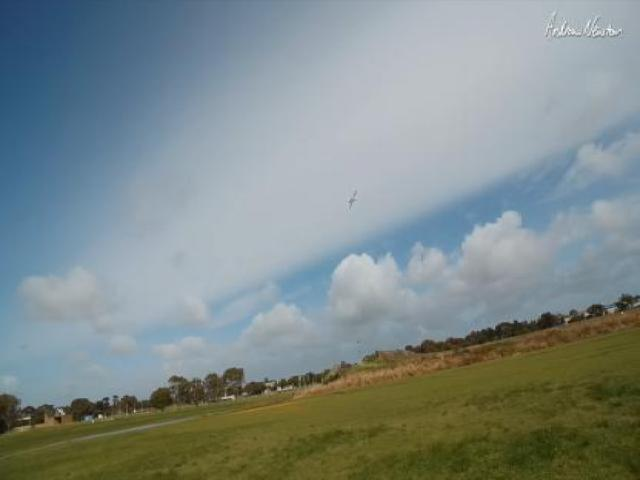uav: (344, 186, 361, 211)
